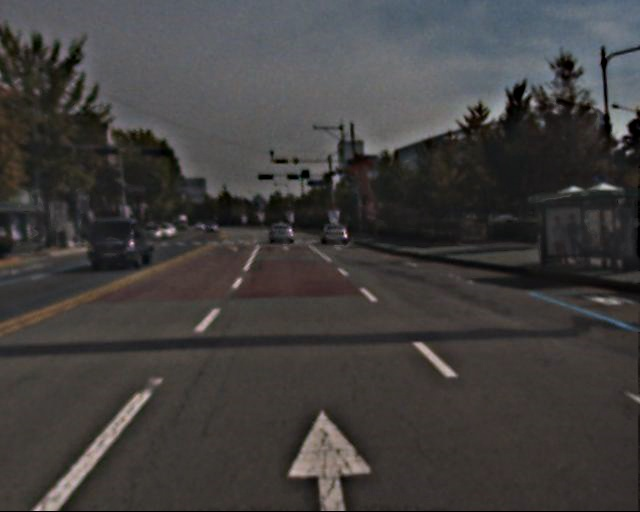person: (553, 212, 625, 268)
